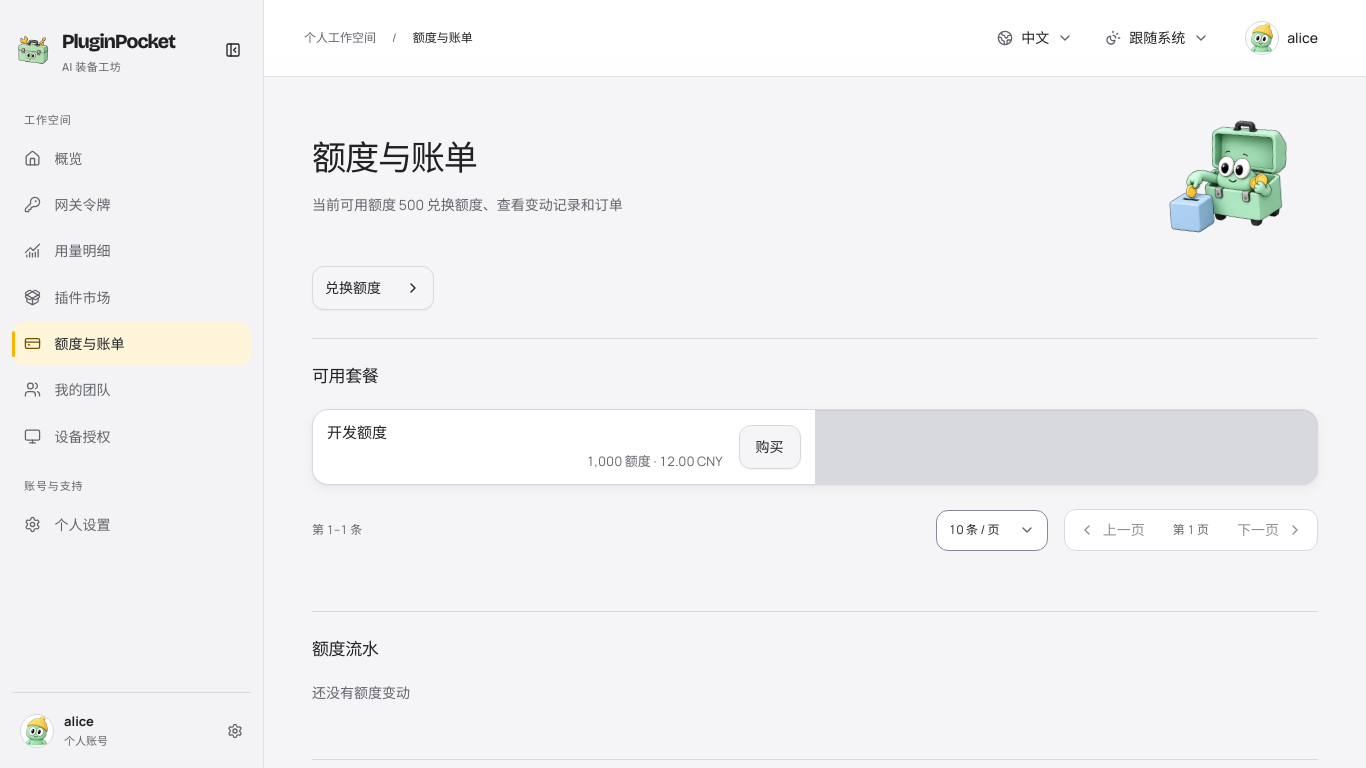
Test: redeems credits and refreshes the actual ledger without pretending payment is available
Click the button "兑换额度" at (373, 288), box [312,266,434,310]
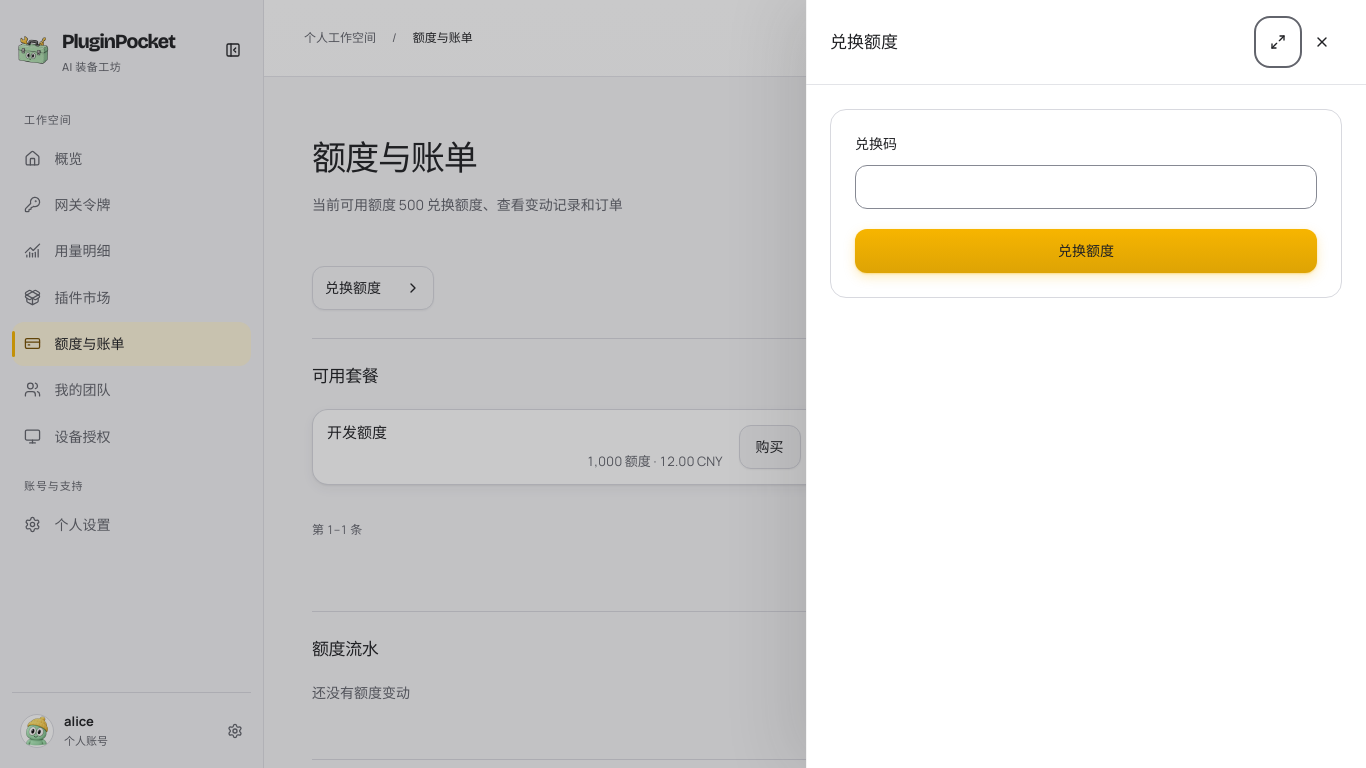
Type "redeem_test" into the field labelled "兑换码" at (1086, 187), box [855,165,1317,209]
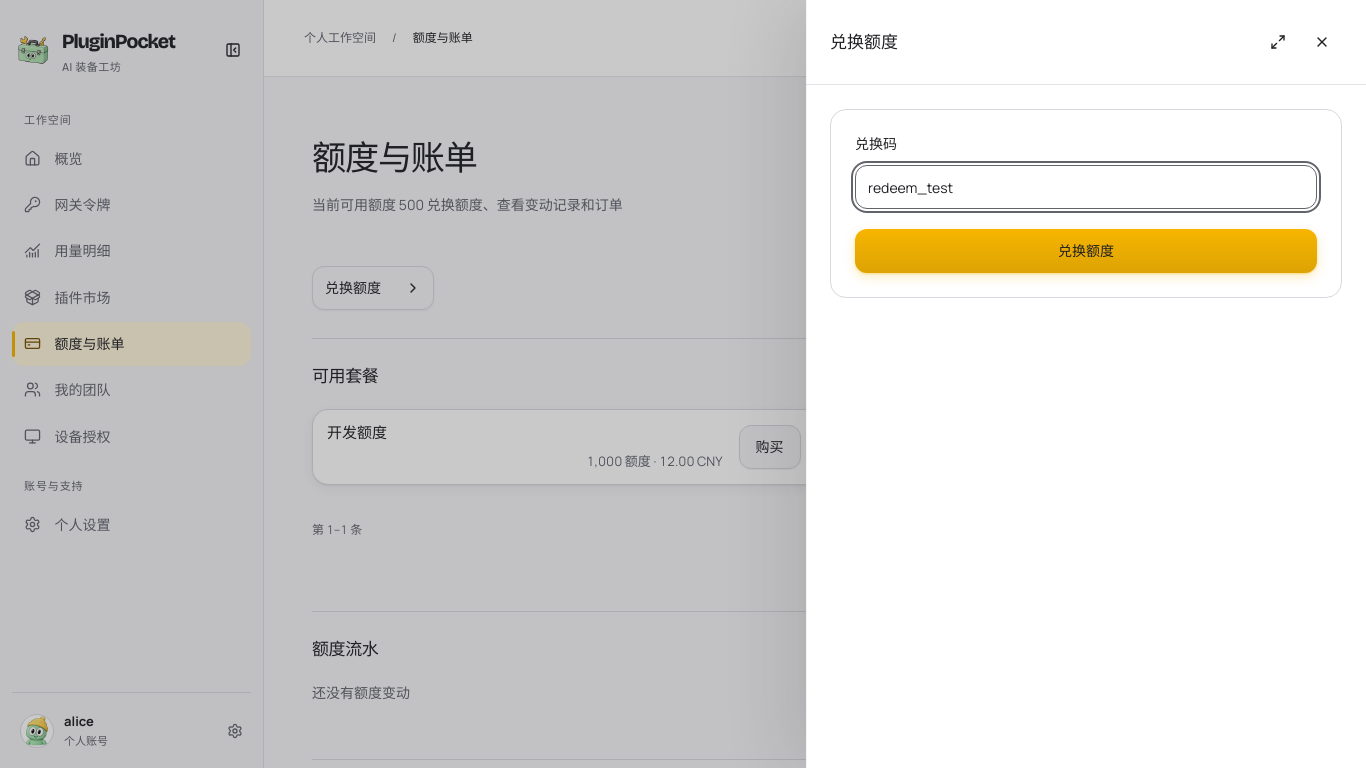
Click the button "兑换额度" at (1086, 251), box [855,229,1317,273]
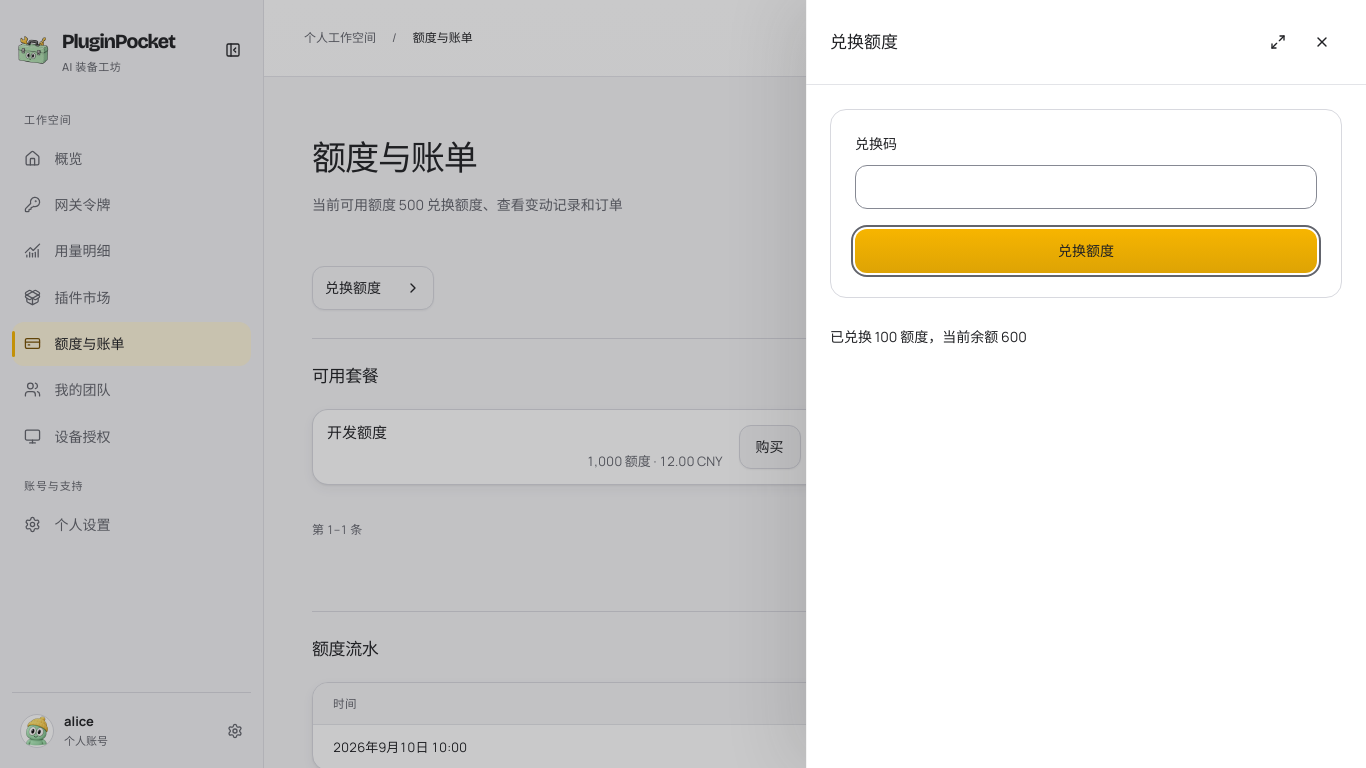
Expected: the message shows "已兑换 100 额度", [830,327,1027,346]
Press Escape
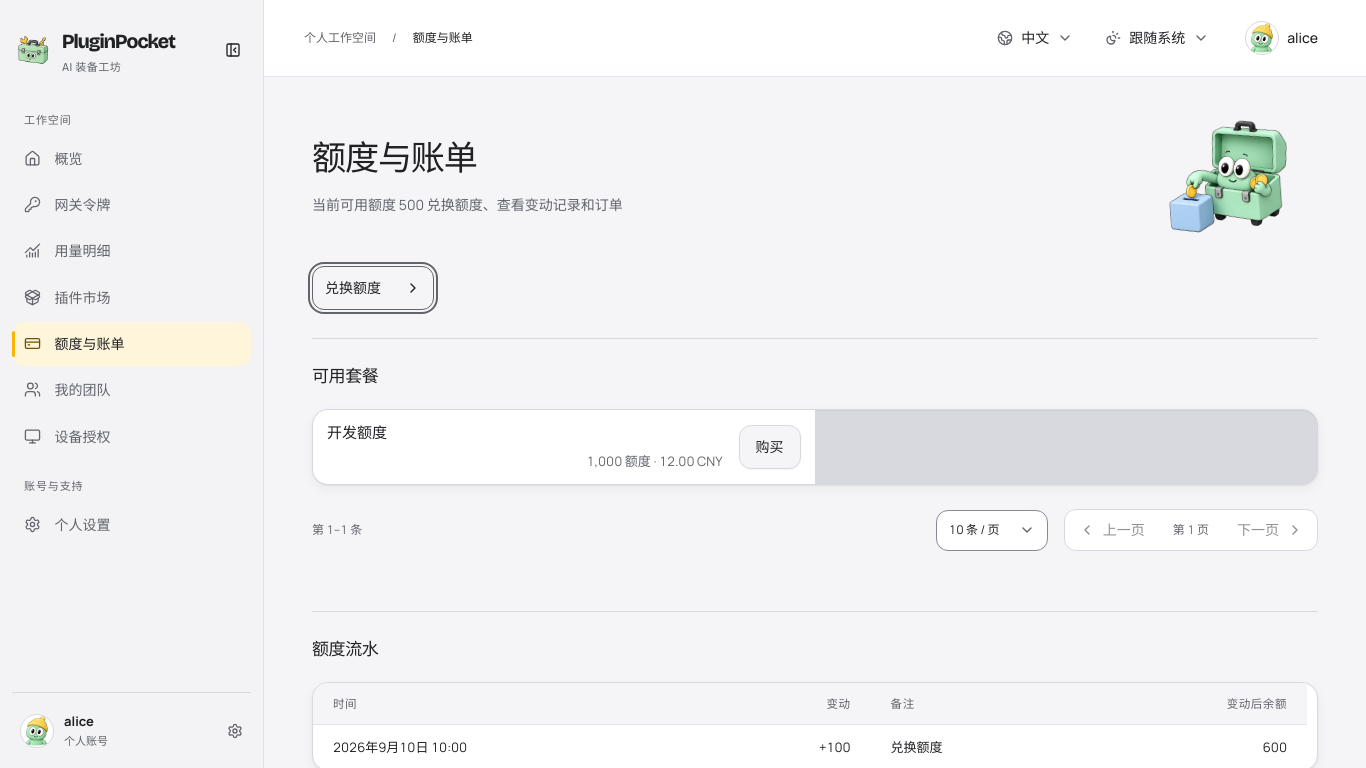
Click the button with aria-label "购买 开发额度" at (770, 447), box [738,425,800,469]
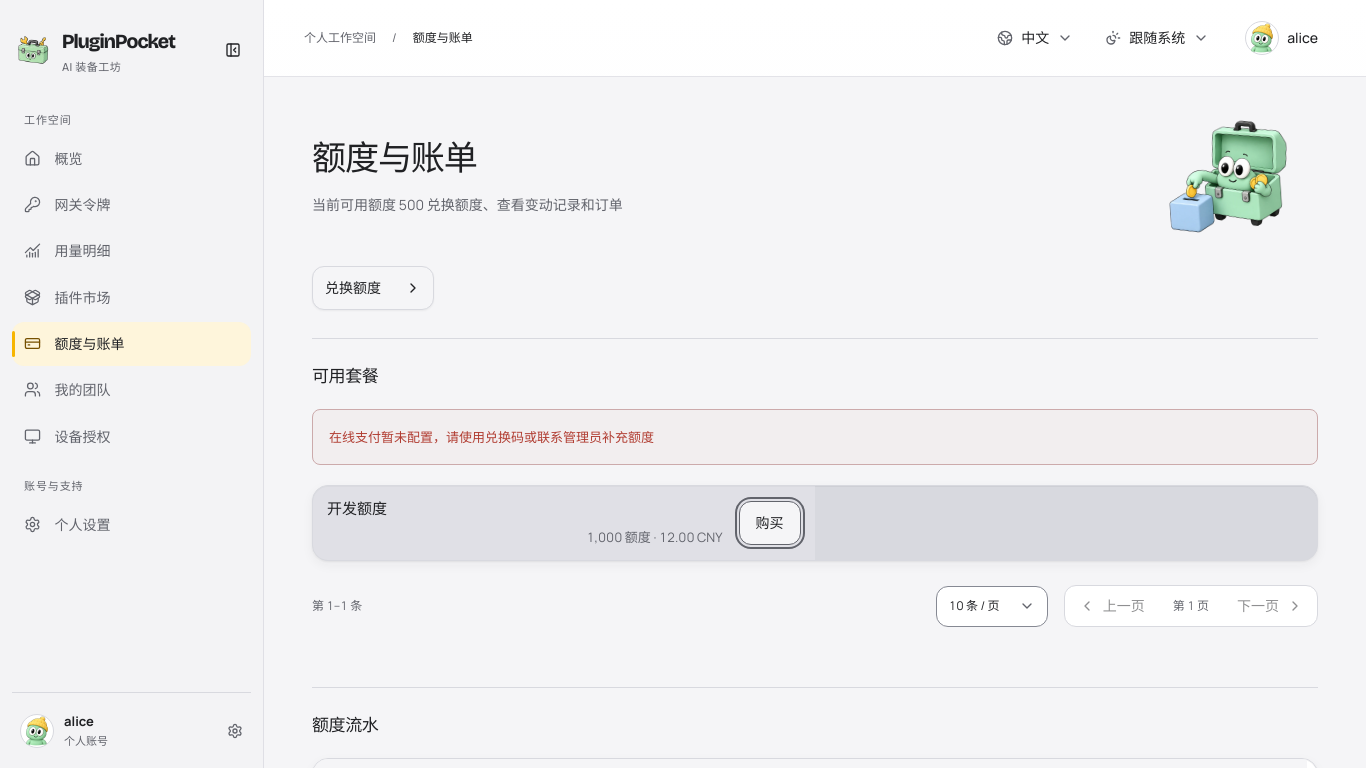
Expected: the message shows "在线支付暂未配置", [329,428,654,446]
